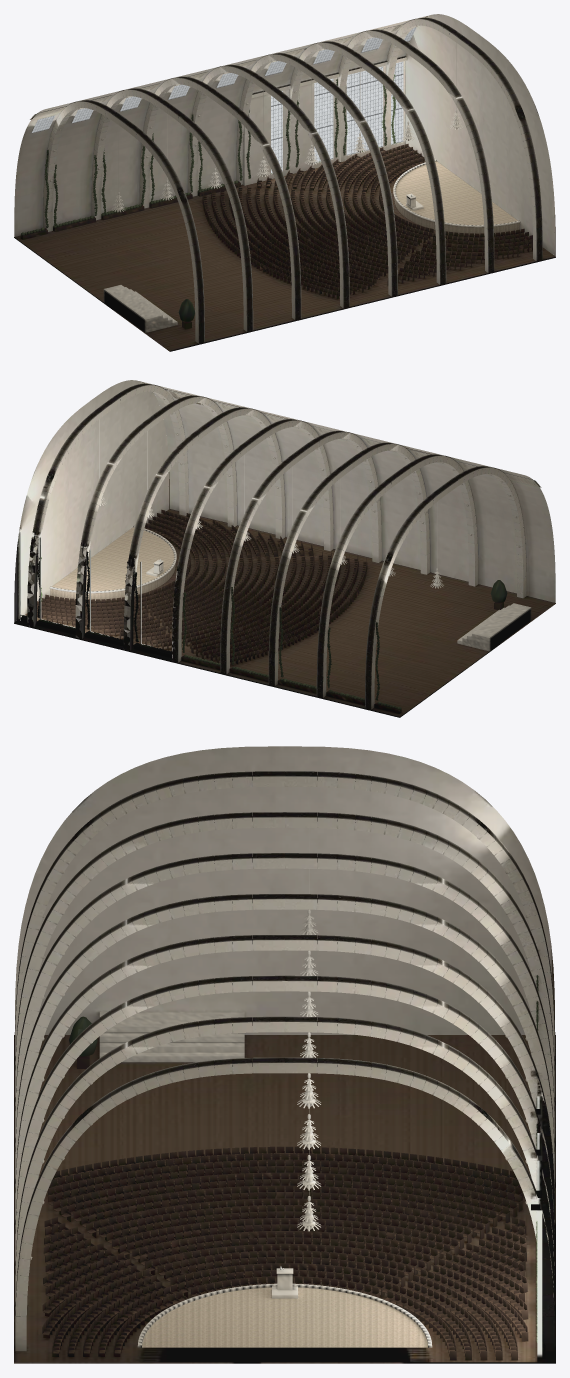
Rendered from einstein-gothenburg-lecture-hall-mobile.glb.
3 views of the same model, one above another, from view 1: azimuth 30°, elevation 25°; view 2: azimuth 150°, elevation 25°; view 3: azimuth 270°, elevation 25° (orthographic). The views are drawn at different scales.
Parts seen in each view (by area): view 1: artifact_ribs, hall_floor, hall_envelope, end_walls, artifact_seats, seats_01, artifact_tall_windows, seats_02, artifact_stage, seats_03, far_platform, clerestory_windows (+4 smaller); view 2: artifact_ribs, hall_envelope, hall_floor, end_walls, artifact_seats, seats_01, seats_02, artifact_stage, seats_03, far_platform, flower_boxes, flowers (+2 smaller); view 3: artifact_ribs, end_walls, hall_floor, artifact_seats, seats_01, seats_02, artifact_stage, seats_03, far_platform, hall_envelope, stage_edge.
Boxes of the visible parts, left/top/right/bottom form: artifact_ribs: left=43, top=17, right=542, bottom=343; hall_floor: left=14, top=148, right=555, bottom=351; hall_envelope: left=14, top=15, right=429, bottom=236; end_walls: left=405, top=14, right=555, bottom=256; artifact_seats: left=337, top=143, right=532, bottom=259; seats_01: left=283, top=153, right=496, bottom=278; artifact_tall_windows: left=271, top=61, right=403, bottom=173; seats_02: left=229, top=176, right=417, bottom=292; artifact_stage: left=394, top=161, right=519, bottom=234; seats_03: left=202, top=188, right=358, bottom=299; far_platform: left=103, top=285, right=177, bottom=332; clerestory_windows: left=31, top=27, right=416, bottom=133; artifact_ribs: left=27, top=383, right=526, bottom=709; hall_envelope: left=18, top=381, right=555, bottom=646; hall_floor: left=14, top=509, right=555, bottom=717; end_walls: left=14, top=380, right=169, bottom=622; artifact_seats: left=37, top=509, right=232, bottom=625; seats_01: left=73, top=519, right=286, bottom=644; seats_02: left=151, top=541, right=340, bottom=659; artifact_stage: left=50, top=527, right=175, bottom=600; seats_03: left=210, top=554, right=367, bottom=665; far_platform: left=457, top=603, right=531, bottom=651; flower_boxes: left=20, top=617, right=401, bottom=713; flowers: left=22, top=615, right=401, bottom=710; artifact_ribs: left=15, top=771, right=554, bottom=1351; end_walls: left=14, top=746, right=555, bottom=1034; hall_floor: left=14, top=1035, right=555, bottom=1363; artifact_seats: left=42, top=1244, right=528, bottom=1360; seats_01: left=42, top=1205, right=528, bottom=1319; seats_02: left=44, top=1166, right=526, bottom=1253; artifact_stage: left=142, top=1287, right=427, bottom=1347; seats_03: left=47, top=1146, right=524, bottom=1202; far_platform: left=99, top=1011, right=244, bottom=1062; hall_envelope: left=531, top=1096, right=542, bottom=1362; stage_edge: left=137, top=1283, right=432, bottom=1347.
Size of the model in its own units: 49.6 by 19.85 by 33.6.
Materials: 5 (4 with a texture image).
